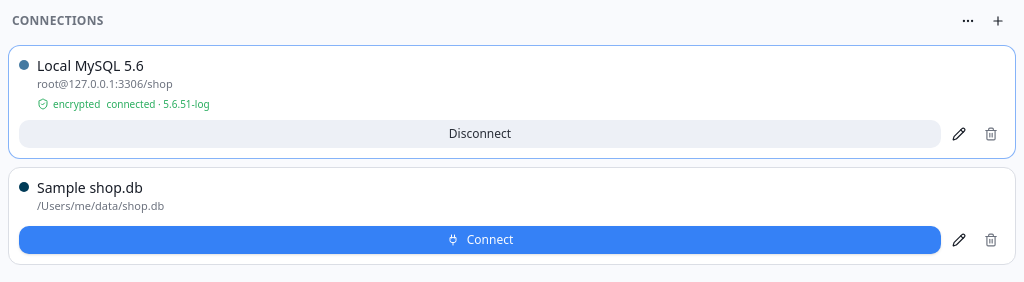
Test: right-clicking a connection shows the SQL editor group
Right-click the element that starts with "Local MySQL 5.6" at (512,102), box [8,45,1016,158]
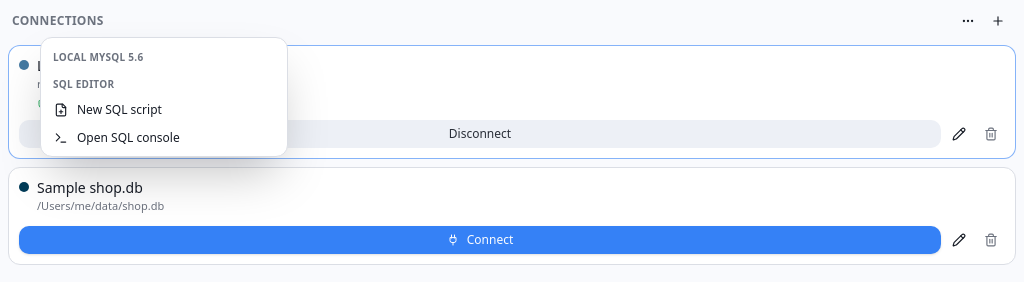
Check: the element that starts with "Connections" shows "SQL editor", box [53,77,114,91]
Check: the element that starts with "Connections" shows "New SQL script", box [41,96,287,124]
Check: the element that starts with "Connections" shows "Open SQL console", box [41,124,287,152]
